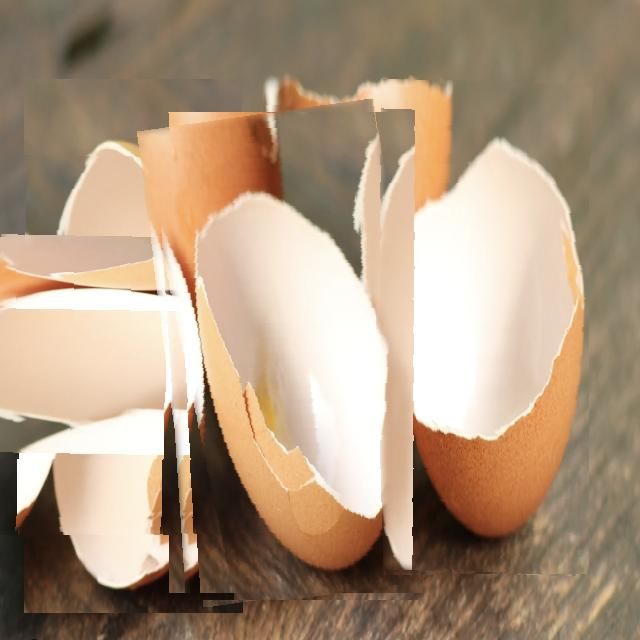biodegradable: (154, 105, 424, 600), (0, 155, 322, 535), (369, 80, 589, 575)
